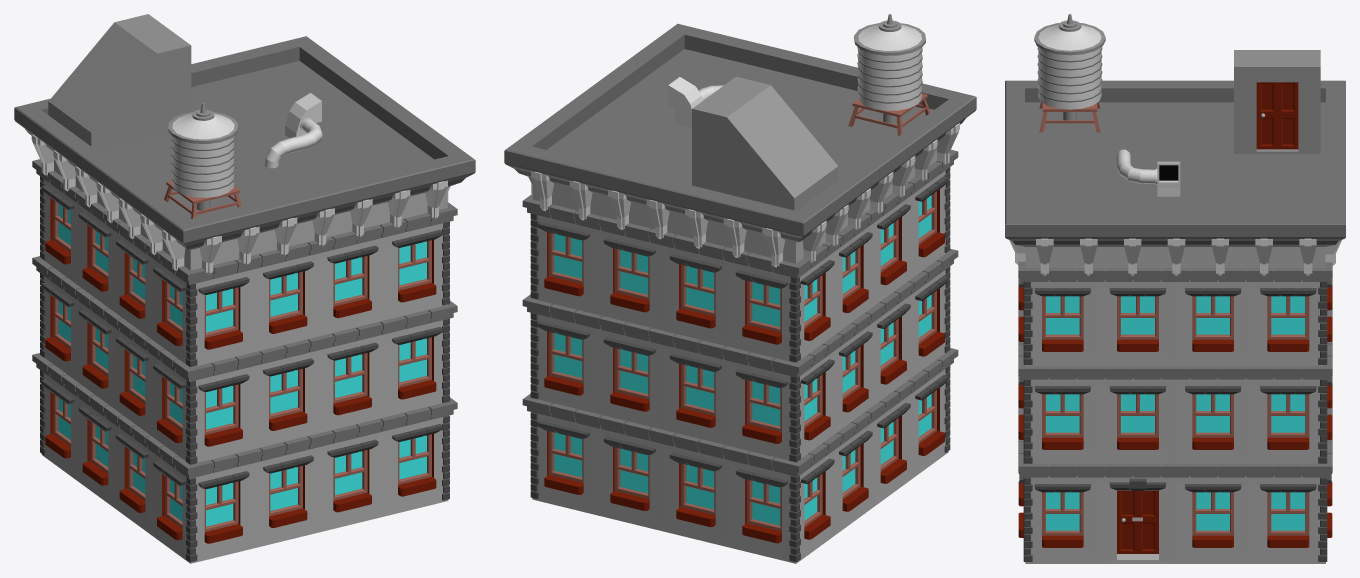
Rendered from modBuilding001.fbx.
3 views of the same model, side by side, from view 1: azimuth 30°, elevation 25°; view 2: azimuth 150°, elevation 25°; view 3: azimuth 270°, elevation 25° (orthographic). The views are drawn at different scales.
Visible parts, largest first — view 1: modBuilding001; view 2: modBuilding001; view 3: modBuilding001.
Part boxes in pixels (x1,y1,x2,y2): modBuilding001: [14, 14, 475, 563]; modBuilding001: [504, 14, 976, 563]; modBuilding001: [1005, 14, 1345, 563].
Size of the model in its own units: 11.3 by 16.08 by 11.3.
